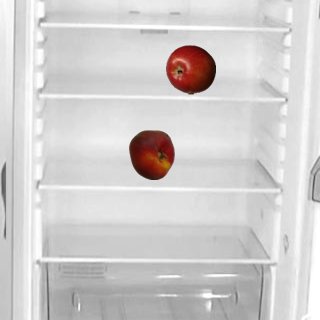Apple Braeburn: (165, 44, 215, 94)
Nectarine Flat: (126, 129, 176, 179)
